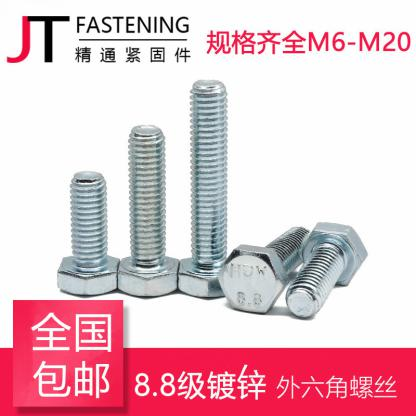FOD: (178, 79, 240, 302), (115, 120, 179, 300), (215, 225, 314, 316), (284, 220, 368, 323), (56, 171, 122, 296)
